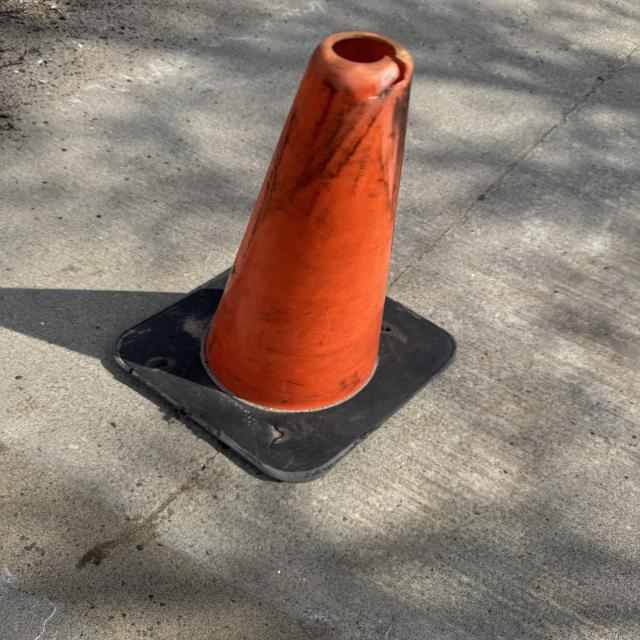Traffic Cone: (110, 29, 458, 484)
